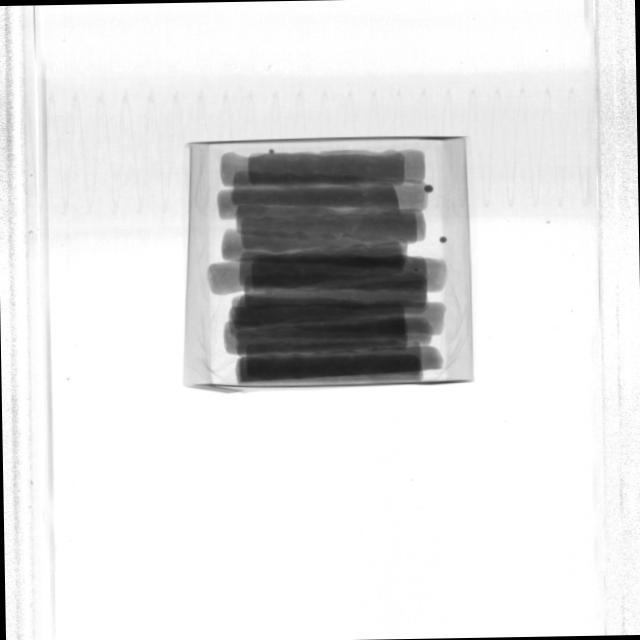ym: (424, 184, 433, 193), (440, 237, 447, 243), (269, 149, 275, 154), (415, 267, 420, 272)
